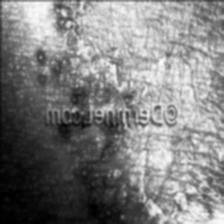Toxin: (46, 0, 90, 46), (96, 212, 168, 224)
